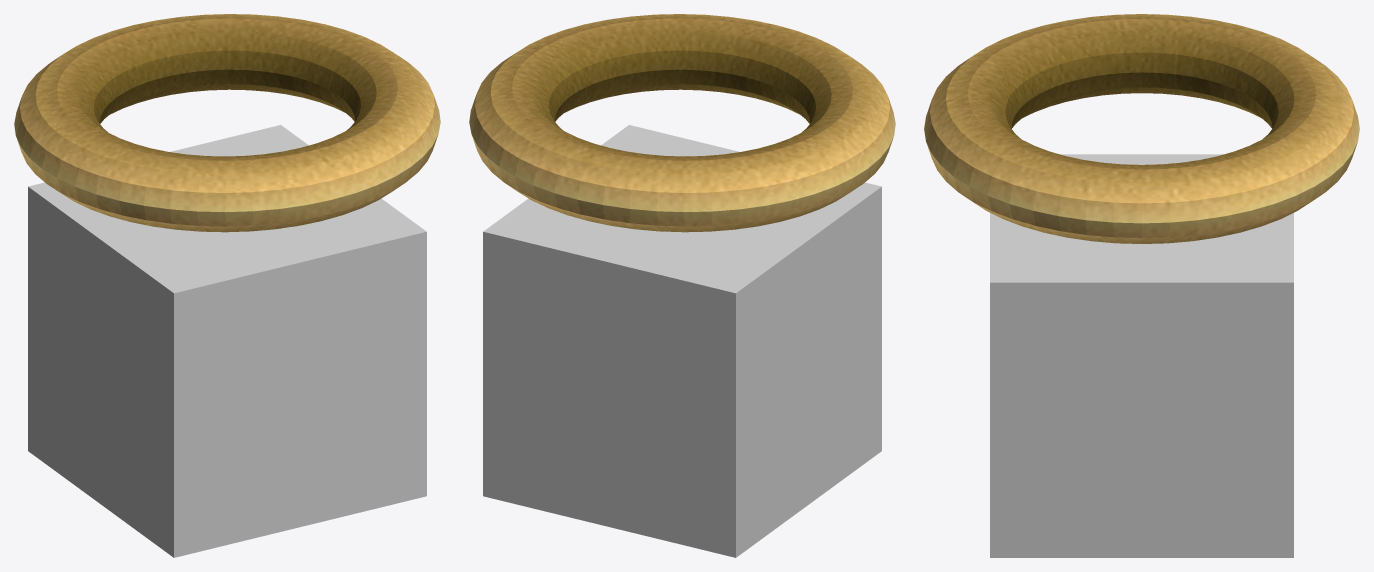
The model's file is Bad_boxerino.fbx.
The picture shows the model from 3 angles, left to right: view 1: azimuth 30°, elevation 25°; view 2: azimuth 150°, elevation 25°; view 3: azimuth 270°, elevation 25°; orthographic projection. The views are drawn at different scales.
Parts seen in each view (by area): view 1: Krabička_gut; view 2: Krabička_gut; view 3: Krabička_gut.
Part boxes in pixels (box(x1,y1,x2,y2)): Krabička_gut: box(14, 14, 440, 557); Krabička_gut: box(469, 14, 895, 557); Krabička_gut: box(924, 14, 1359, 557).
Bounding box in the file's own units: 66.29 × 65.47 × 64.72.
